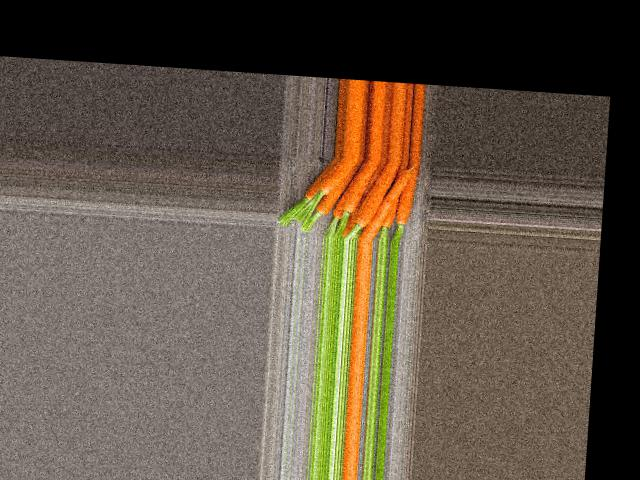carrot: (315, 158, 353, 228)
